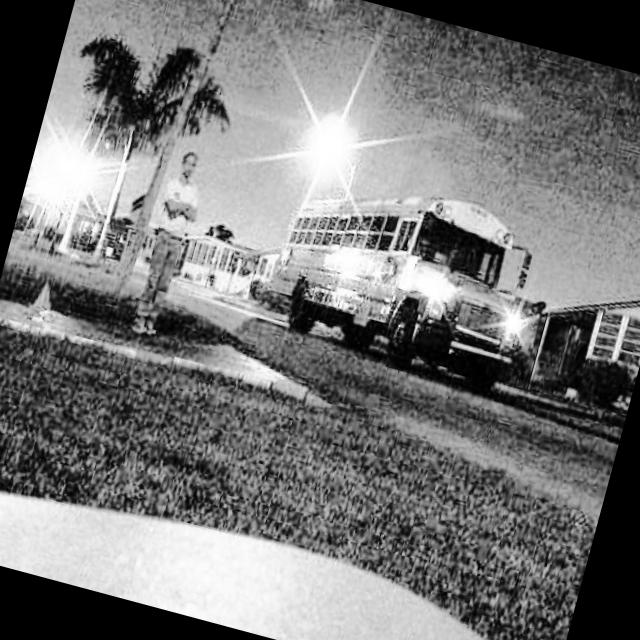Bus: (213, 133, 562, 412)
Person: (122, 130, 217, 360)
